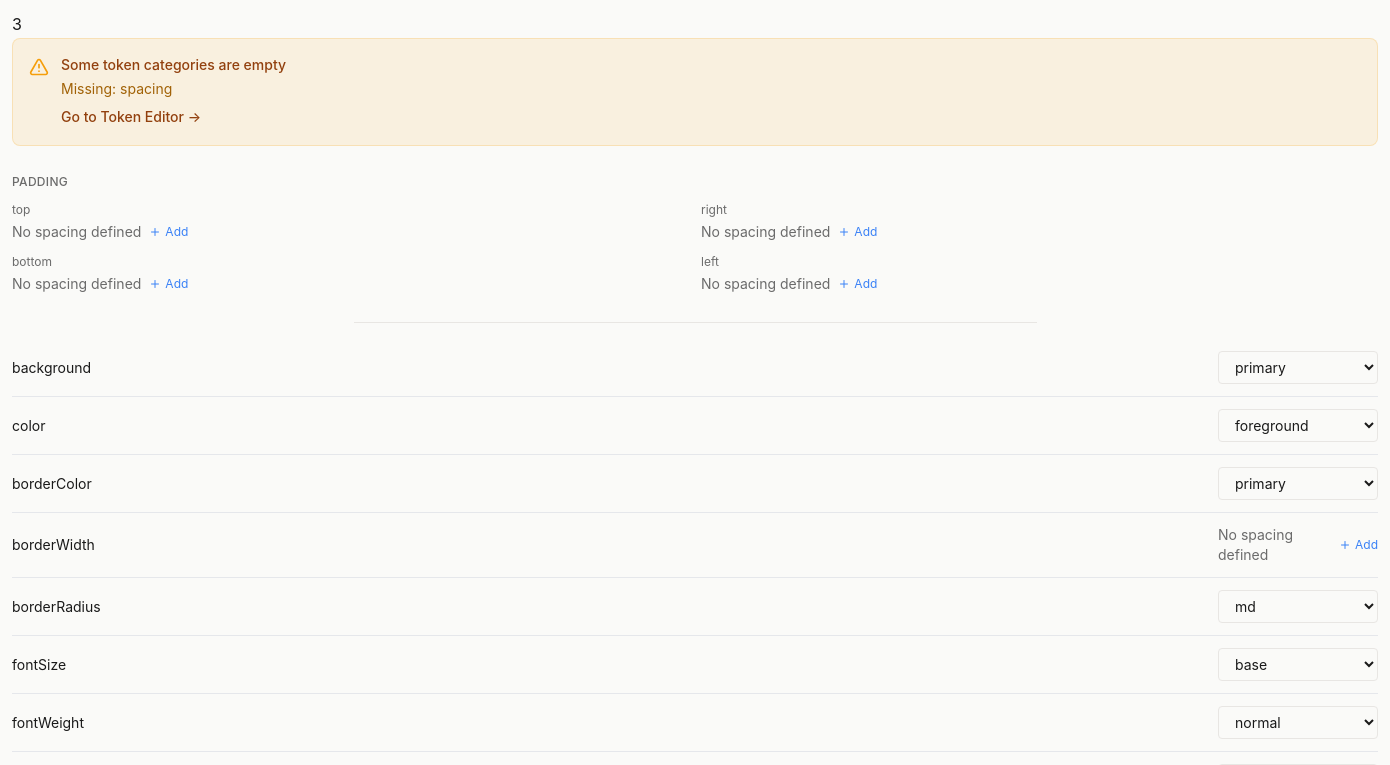
Test: TokenMappings › shows empty category warning and navigates to token editor when clicked
This screenshot has width=1390, height=765.
Expected: the text "Some token categories are empty" is shown, [61, 55, 286, 75]
Expected: the text "Missing: spacing" is shown, [61, 80, 172, 97]
Click the button "Go to Token Editor →" at (131, 117), box [61, 107, 201, 127]
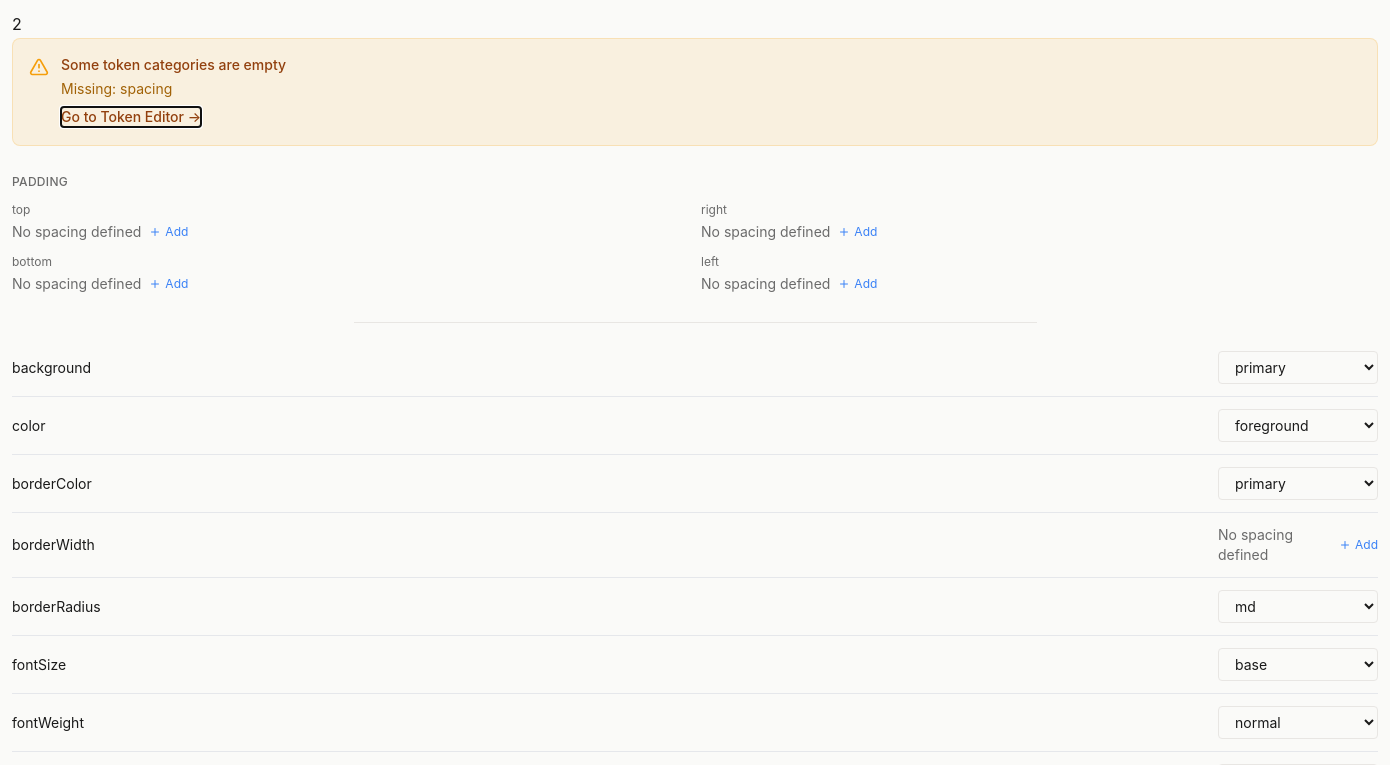
Now the text with test id "current-step" reads "2", box [12, 14, 22, 34]
